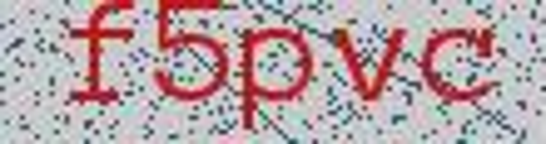5: (150, 1, 233, 109)
c: (417, 22, 508, 112)
f: (62, 1, 139, 119)
p: (238, 23, 316, 141)
v: (328, 19, 407, 116)
